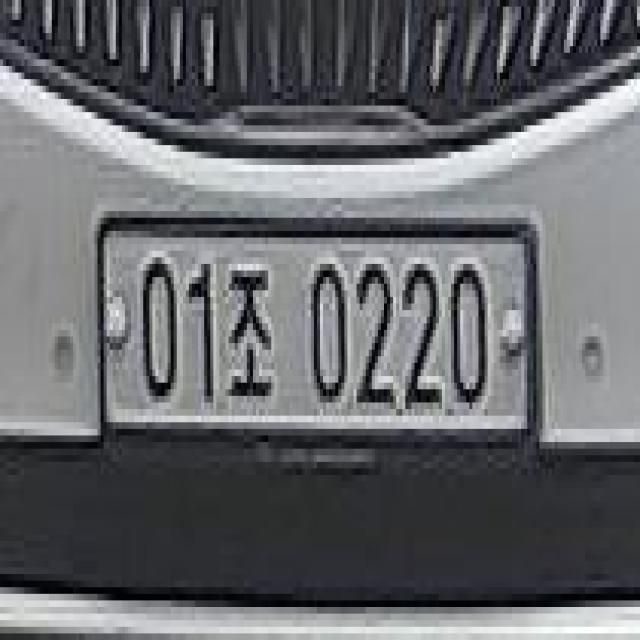illegal_plate: (92, 199, 537, 483)
